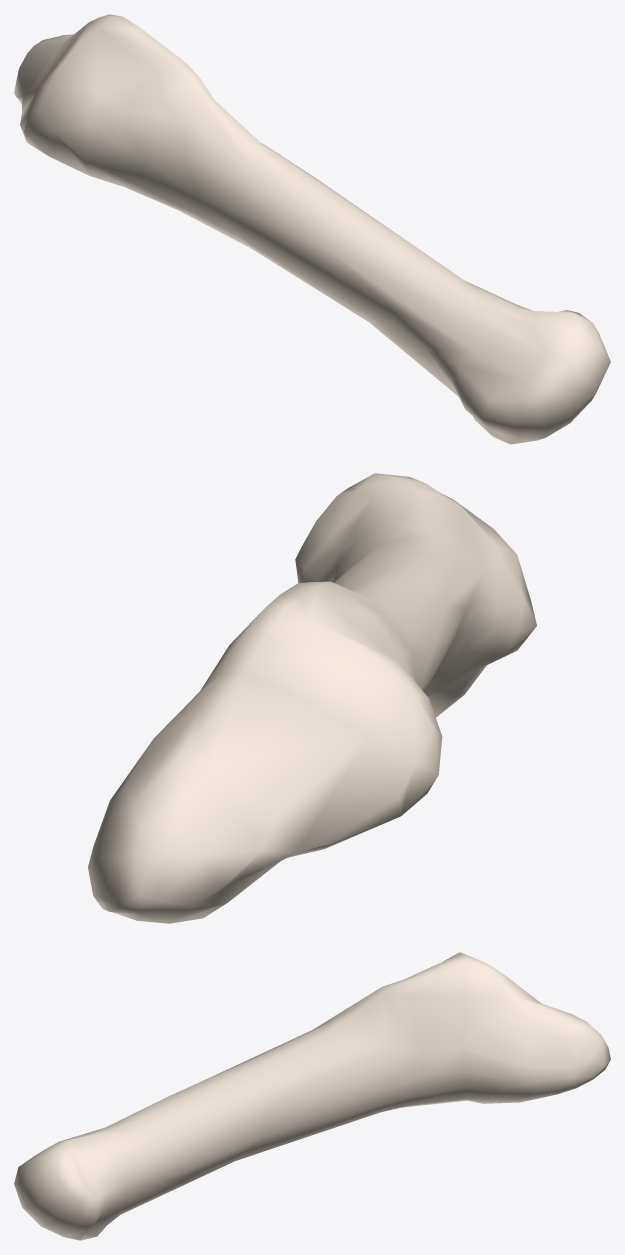
File: left_metatarsal_5.glb
The picture shows the model from 3 angles, top to bottom: view 1: azimuth 30°, elevation 25°; view 2: azimuth 150°, elevation 25°; view 3: azimuth 270°, elevation 25°; orthographic projection. The views are drawn at different scales.
Visible parts, largest first — view 1: Fifth metatarsal bone.r; view 2: Fifth metatarsal bone.r; view 3: Fifth metatarsal bone.r.
Boxes of the visible parts, box(x1,y1,x2,y2) form: Fifth metatarsal bone.r: box(14, 14, 610, 444); Fifth metatarsal bone.r: box(88, 473, 536, 923); Fifth metatarsal bone.r: box(14, 952, 610, 1240).
Size of the model in its own units: 0.0365 by 0.03 by 0.0732.
